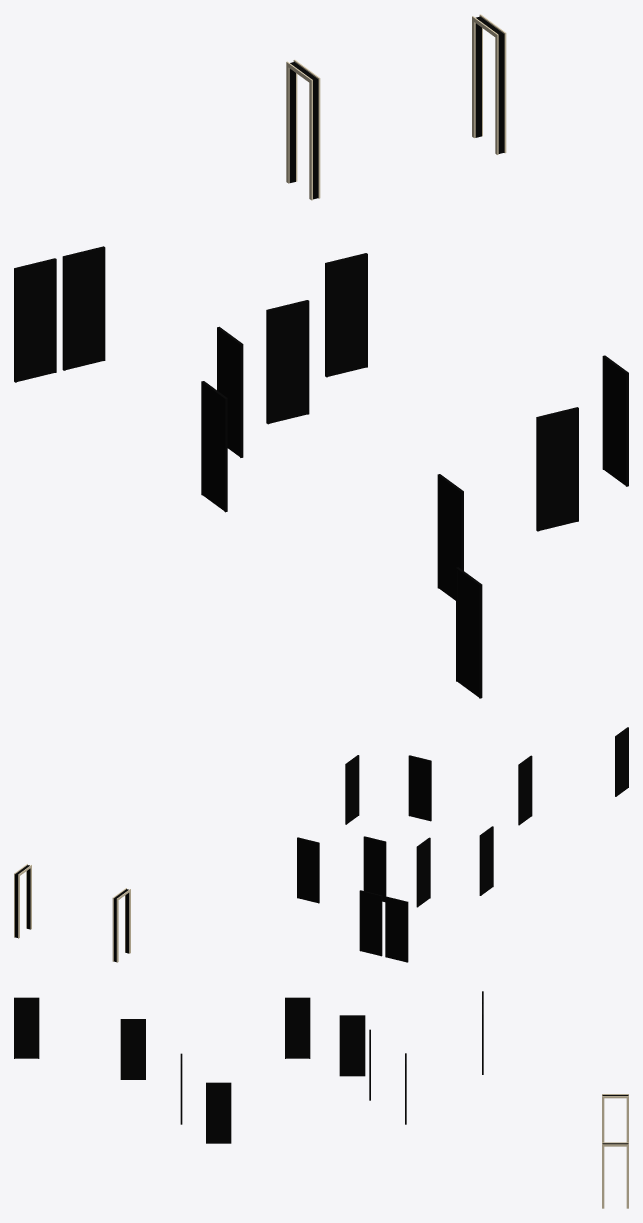
Rendered from model-part.gltf_doors_F2.gltf.
3 views of the same model, one above another, from view 1: azimuth 30°, elevation 25°; view 2: azimuth 150°, elevation 25°; view 3: azimuth 270°, elevation 25° (orthographic). The views are drawn at different scales.
Size of the model in its own units: 11.69 by 2.23 by 19.39.
